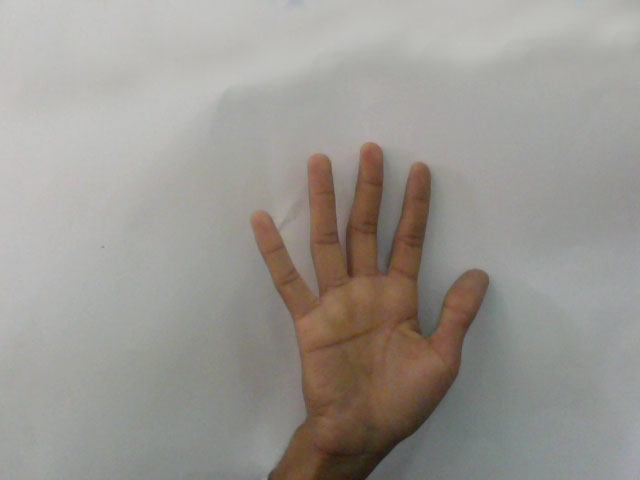hand: (234, 130, 508, 441)
